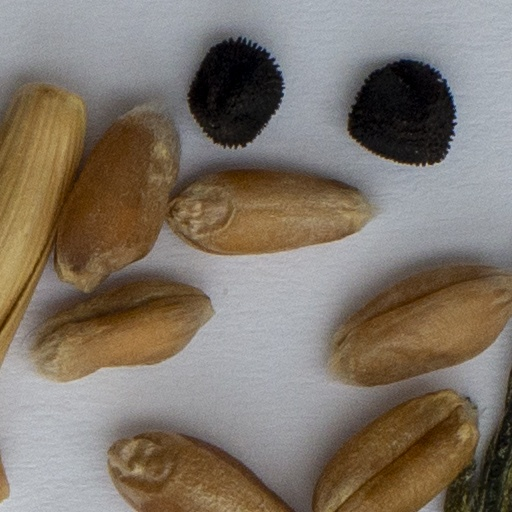Peel-poly: (0, 84, 84, 364), (443, 364, 511, 511)
